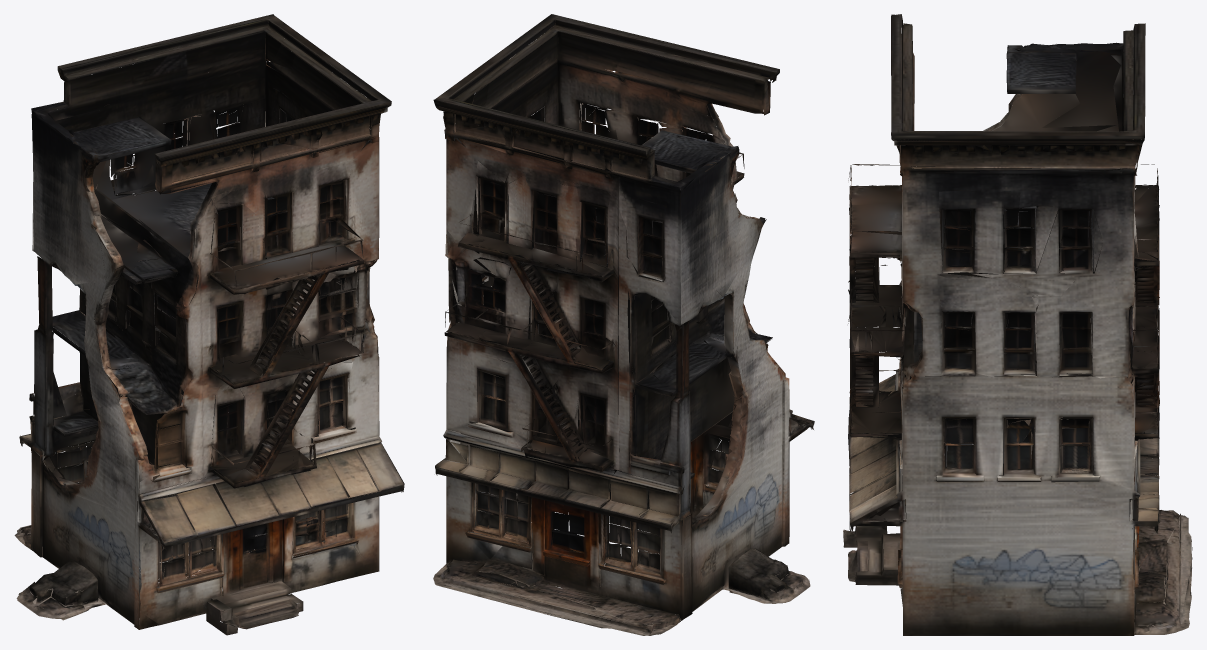
The model's file is house_abandoned_01.glb.
3 renders of one model, left to right at view 1: azimuth 30°, elevation 25°; view 2: azimuth 150°, elevation 25°; view 3: azimuth 270°, elevation 25°, orthographic. The views are drawn at different scales.
Visible parts, largest first — view 1: material; view 2: material; view 3: material.
Boxes of the visible parts, <box> form: material: <box>14,14,404,635</box>; material: <box>433,14,814,635</box>; material: <box>843,14,1192,635</box>.
Bounding box in the file's own units: 9.54 × 14 × 8.77.
1 material, 1 textured.
